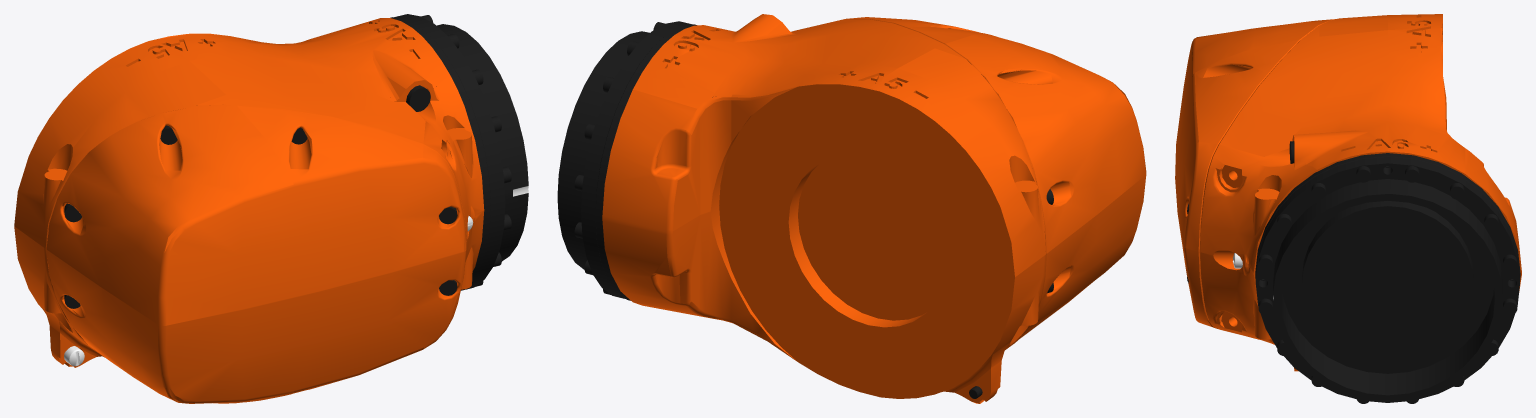
The model's file is A5_cal.glb.
3 renders of one model, left to right at view 1: azimuth 30°, elevation 25°; view 2: azimuth 150°, elevation 25°; view 3: azimuth 270°, elevation 25°, orthographic. The views are drawn at different scales.
Visible parts, largest first — view 1: A5.001; view 2: A5.001; view 3: A5.001.
Part boxes in pixels (<box>): A5.001: <box>14,14,528,403</box>; A5.001: <box>557,14,1146,403</box>; A5.001: <box>1175,14,1521,403</box>.
Size of the model in its own units: 0.2662 by 0.1835 by 0.2019.
